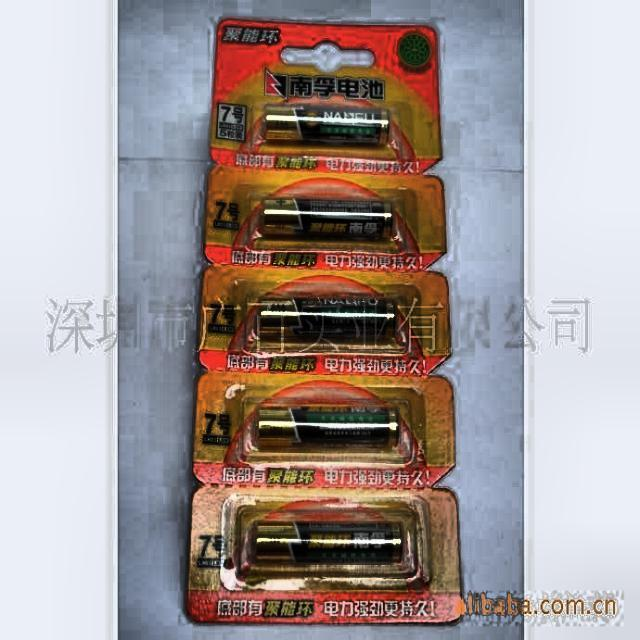battery: (255, 521, 402, 563), (260, 299, 396, 341), (258, 407, 399, 447), (262, 198, 392, 239), (265, 105, 390, 144)
